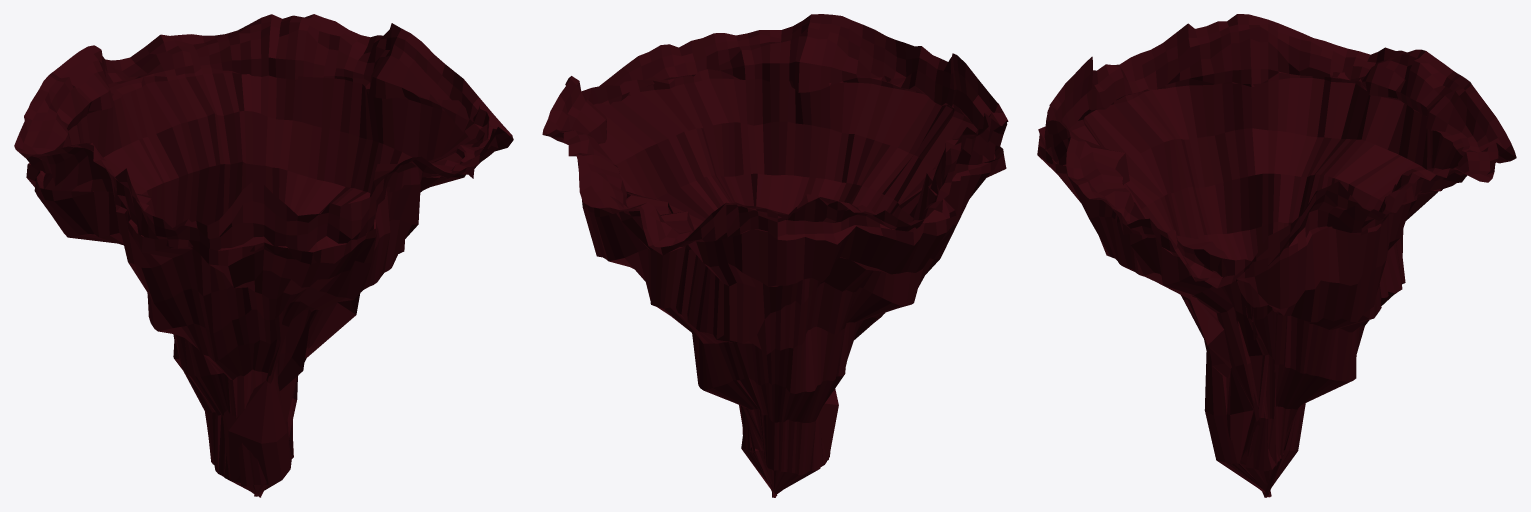
Rendered from PORTAAL.fbx.
3 views of the same model, side by side, from view 1: azimuth 30°, elevation 25°; view 2: azimuth 150°, elevation 25°; view 3: azimuth 270°, elevation 25° (orthographic). The views are drawn at different scales.
Visible parts, largest first — view 1: Circle; view 2: Circle; view 3: Circle.
Part boxes in pixels (x1,y1,x2,y2): Circle: [14, 14, 513, 497]; Circle: [542, 14, 1008, 497]; Circle: [1037, 14, 1516, 497].
Bounding box in the file's own units: 1835 × 1658 × 1813.
